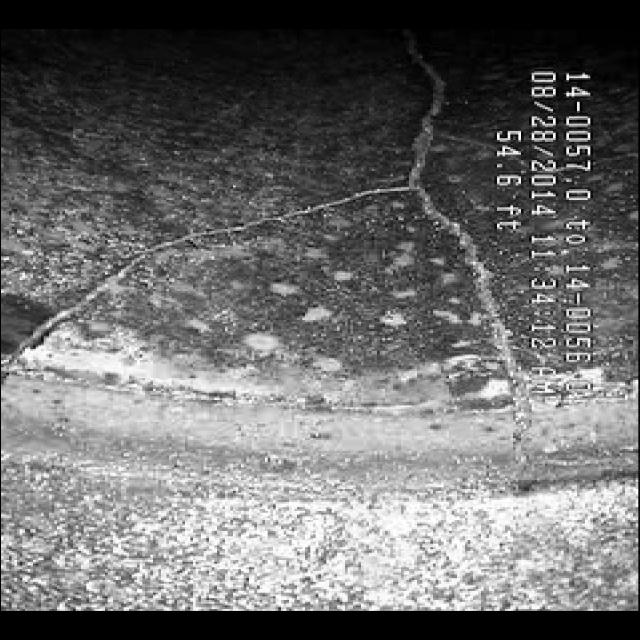Crack: (84, 44, 486, 378)
